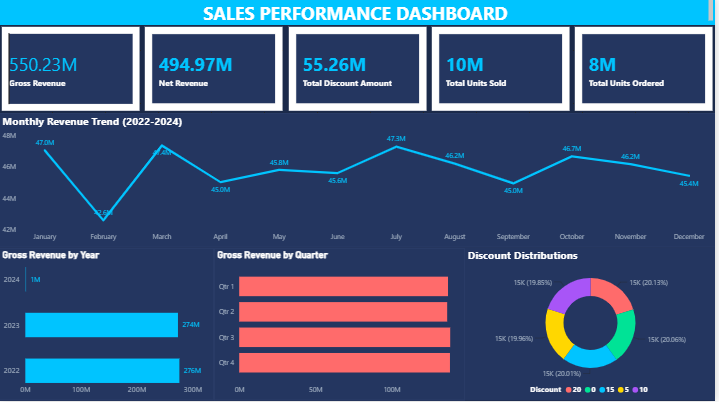

What the dashboard file says about the page in this screenshot:
{"tool":"powerbi","page":{"name":"Sales Overview","canvas":[1280,720],"ordinal":0},"visuals":[{"type":"textbox","box":[0,0,1280,50],"z":0},{"type":"lineChart","title":"Monthly Revenue Trend (2022-2024)","fields":{"Category":["cleaned_sales_data.Date.Variation.Date Hierarchy.Month"],"Y":["Sum(cleaned_sales_data.Revenue)"]},"box":[0,208,1280,240],"z":1000},{"type":"clusteredBarChart","title":"Gross Revenue by Year","fields":{"Category":["cleaned_sales_data.Date.Variation.Date Hierarchy.Year"],"Y":["Sum(cleaned_sales_data.Revenue)"]},"box":[0,448,384,272],"z":2000},{"type":"donutChart","title":"Discount Distributions","fields":{"Category":["cleaned_sales_data.Discount"],"Y":["cleaned_sales_data.Total Transactions"]},"box":[832,448,448,272],"z":3000},{"type":"clusteredBarChart","title":"Gross Revenue by Quarter","fields":{"Category":["cleaned_sales_data.Date.Variation.Date Hierarchy.Quarter"],"Y":["Sum(cleaned_sales_data.Revenue)"]},"box":[384,448,448,272],"z":4000},{"type":"cardVisual","fields":{"Data":["Sum(cleaned_sales_data.Units Ordered)"]},"box":[1024,48,256,160],"z":5000},{"type":"cardVisual","fields":{"Data":["Sum(cleaned_sales_data.Units Sold)"]},"box":[768,48,256,160],"z":6000},{"type":"cardVisual","fields":{"Data":["Sum(cleaned_sales_data.Discount_Amount)"]},"box":[512,48,256,160],"z":7000},{"type":"cardVisual","fields":{"Data":["Sum(cleaned_sales_data.Total_Revenue)"]},"box":[256,48,256,160],"z":8000},{"type":"cardVisual","fields":{"Data":["Sum(cleaned_sales_data.Revenue)"]},"box":[0,48,256,160],"z":9000}]}

Visuals, with their boxes in screenshot pixels (x1, y1, x2, y2), scaled from the page's 1280x720 canvas onto the 719x402 screenshot:
textbox: crop(0, 0, 718, 28)
"Monthly Revenue Trend (2022-2024)" lineChart: crop(0, 116, 718, 250)
"Gross Revenue by Year" clusteredBarChart: crop(0, 250, 216, 401)
"Discount Distributions" donutChart: crop(467, 250, 718, 401)
"Gross Revenue by Quarter" clusteredBarChart: crop(216, 250, 467, 401)
cardVisual - Sum(cleaned_sales_data.Units Ordered): crop(575, 27, 718, 116)
cardVisual - Sum(cleaned_sales_data.Units Sold): crop(431, 27, 575, 116)
cardVisual - Sum(cleaned_sales_data.Discount_Amount): crop(288, 27, 431, 116)
cardVisual - Sum(cleaned_sales_data.Total_Revenue): crop(144, 27, 288, 116)
cardVisual - Sum(cleaned_sales_data.Revenue): crop(0, 27, 144, 116)
